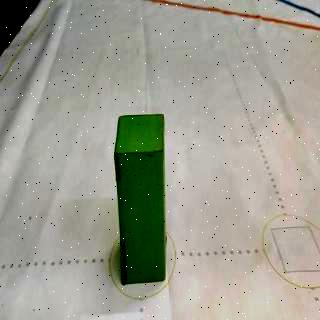greenbox: (112, 113, 170, 284)
